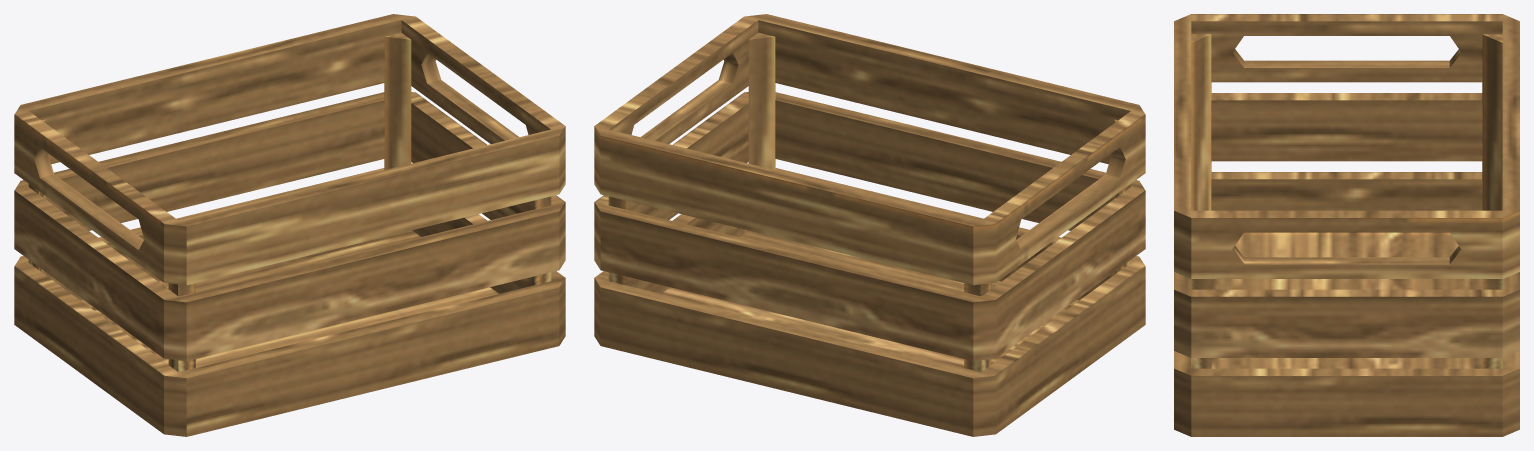
File: biomart crate.fbx
The picture shows the model from 3 angles, left to right: view 1: azimuth 30°, elevation 25°; view 2: azimuth 150°, elevation 25°; view 3: azimuth 270°, elevation 25°; orthographic projection. The views are drawn at different scales.
Visible parts, largest first — view 1: pCube45; view 2: pCube45; view 3: pCube45.
Boxes of the visible parts, x1=… form: pCube45: x1=14, y1=14, x2=565, y2=436; pCube45: x1=594, y1=14, x2=1145, y2=436; pCube45: x1=1174, y1=14, x2=1519, y2=436.
Bounding box in the file's own units: 0.7255 × 0.3634 × 0.5201.
